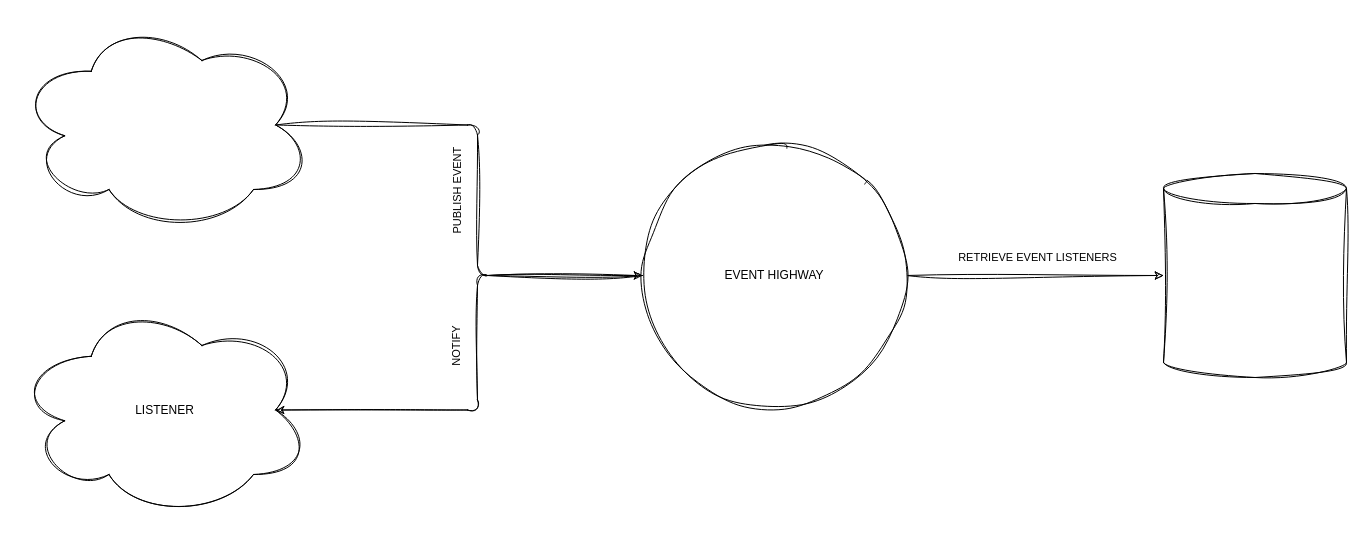
The diagram is 1364 pixels wide and 535 high, and some of its shapes have lost their labels. Each missing label, with the box of its shape:
PUBLISHER: (16, 16, 312, 232)
STORAGE: (1162, 172, 1346, 378)
